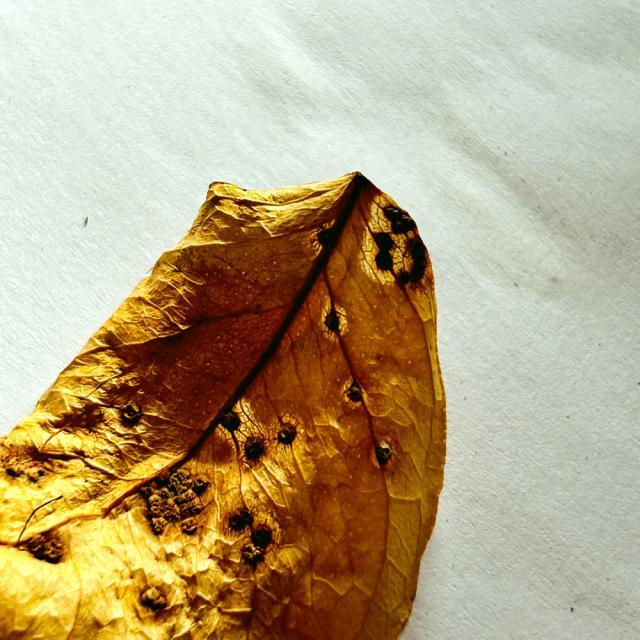DryLeaf_Lemon: (0, 173, 445, 639)
